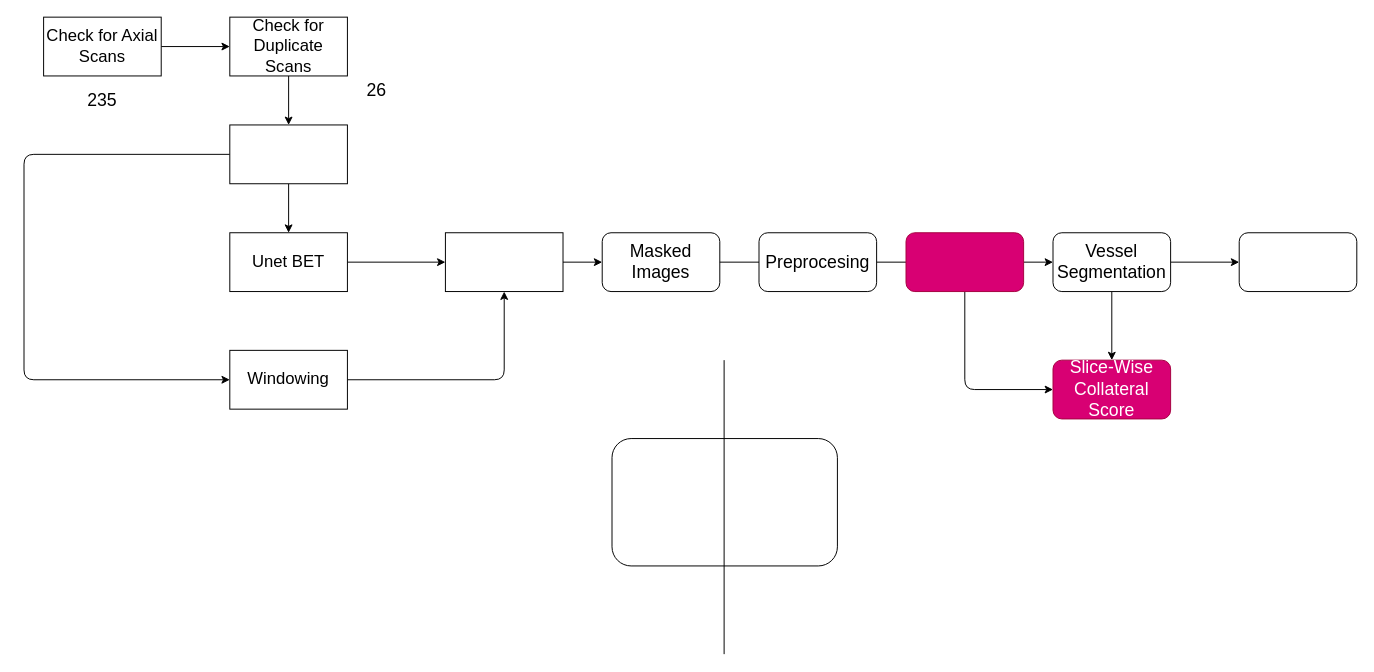
This 1374x672 diagram has some shape labels left out. Each missing label, with the centre of its shape:
Co-Registration: point 964,262
DCM to Nifti: point 288,154
Multiply: point 503,262
Reconstructed Vessels 3D: point 1297,262
